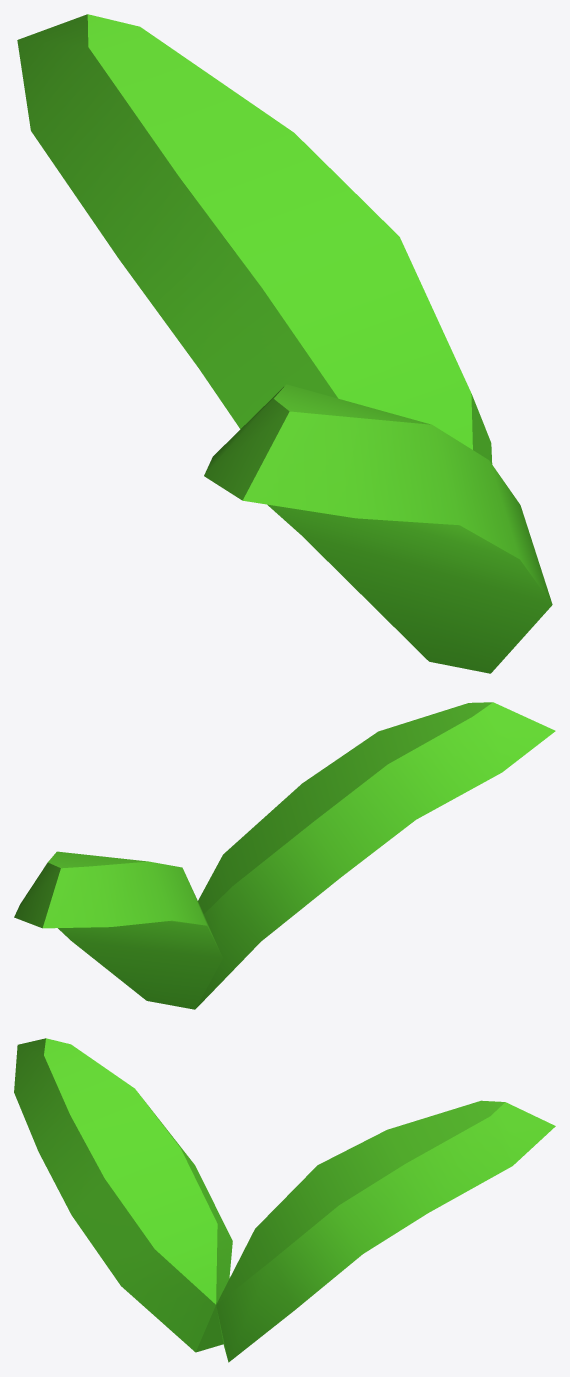
Rendered from Grass_E_2_.fbx.
3 views of the same model, one above another, from view 1: azimuth 30°, elevation 25°; view 2: azimuth 150°, elevation 25°; view 3: azimuth 270°, elevation 25° (orthographic). The views are drawn at different scales.
Parts seen in each view (by area): view 1: Grass_E_2; view 2: Grass_E_2; view 3: Grass_E_2.
Part boxes in pixels (<box>): Grass_E_2: <box>17,14,552,673</box>; Grass_E_2: <box>14,702,555,1009</box>; Grass_E_2: <box>14,1038,555,1362</box>.
Size of the model in its own units: 16.56 by 13.75 by 29.53.
